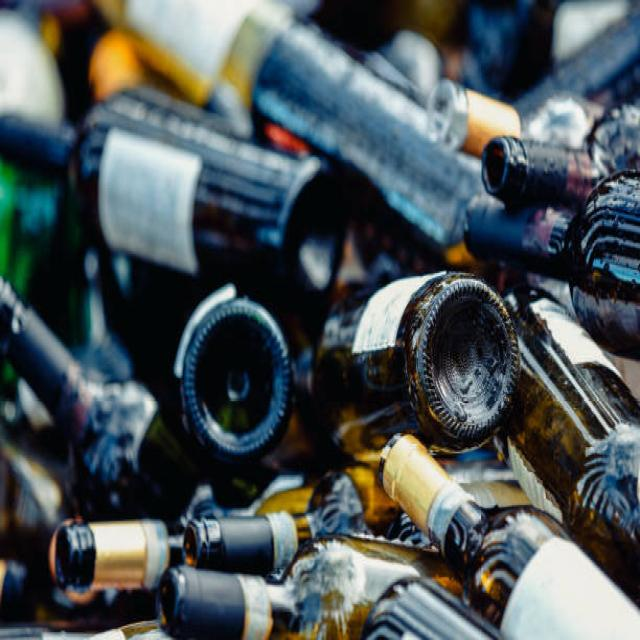glass: (88, 67, 536, 557)
